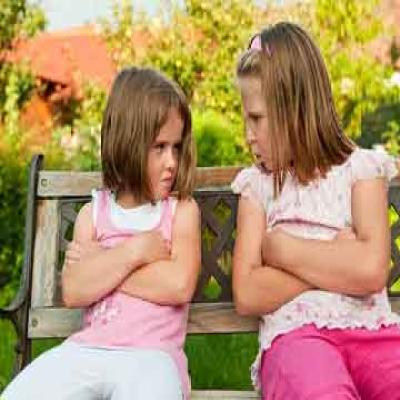angry: (241, 70, 286, 174), (144, 105, 177, 199)
